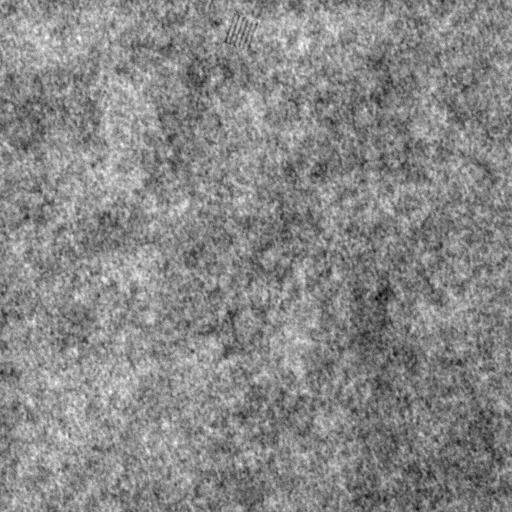DefectTypeB: (223, 13, 259, 47)
